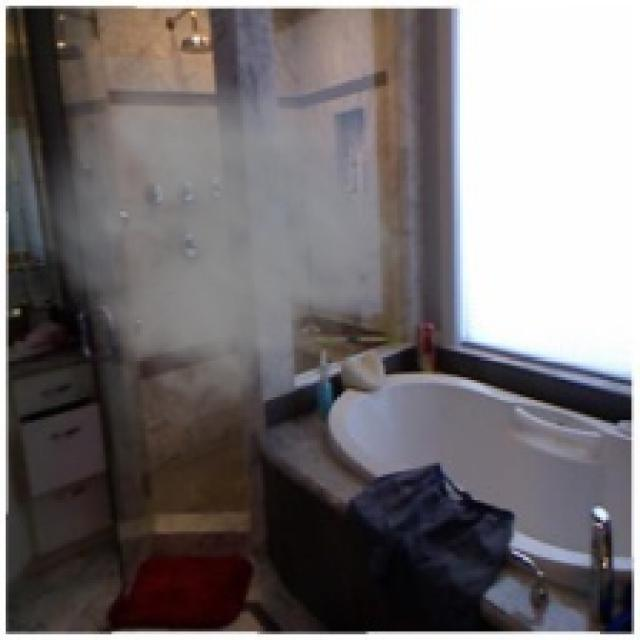Smoke: (11, 57, 426, 446)
